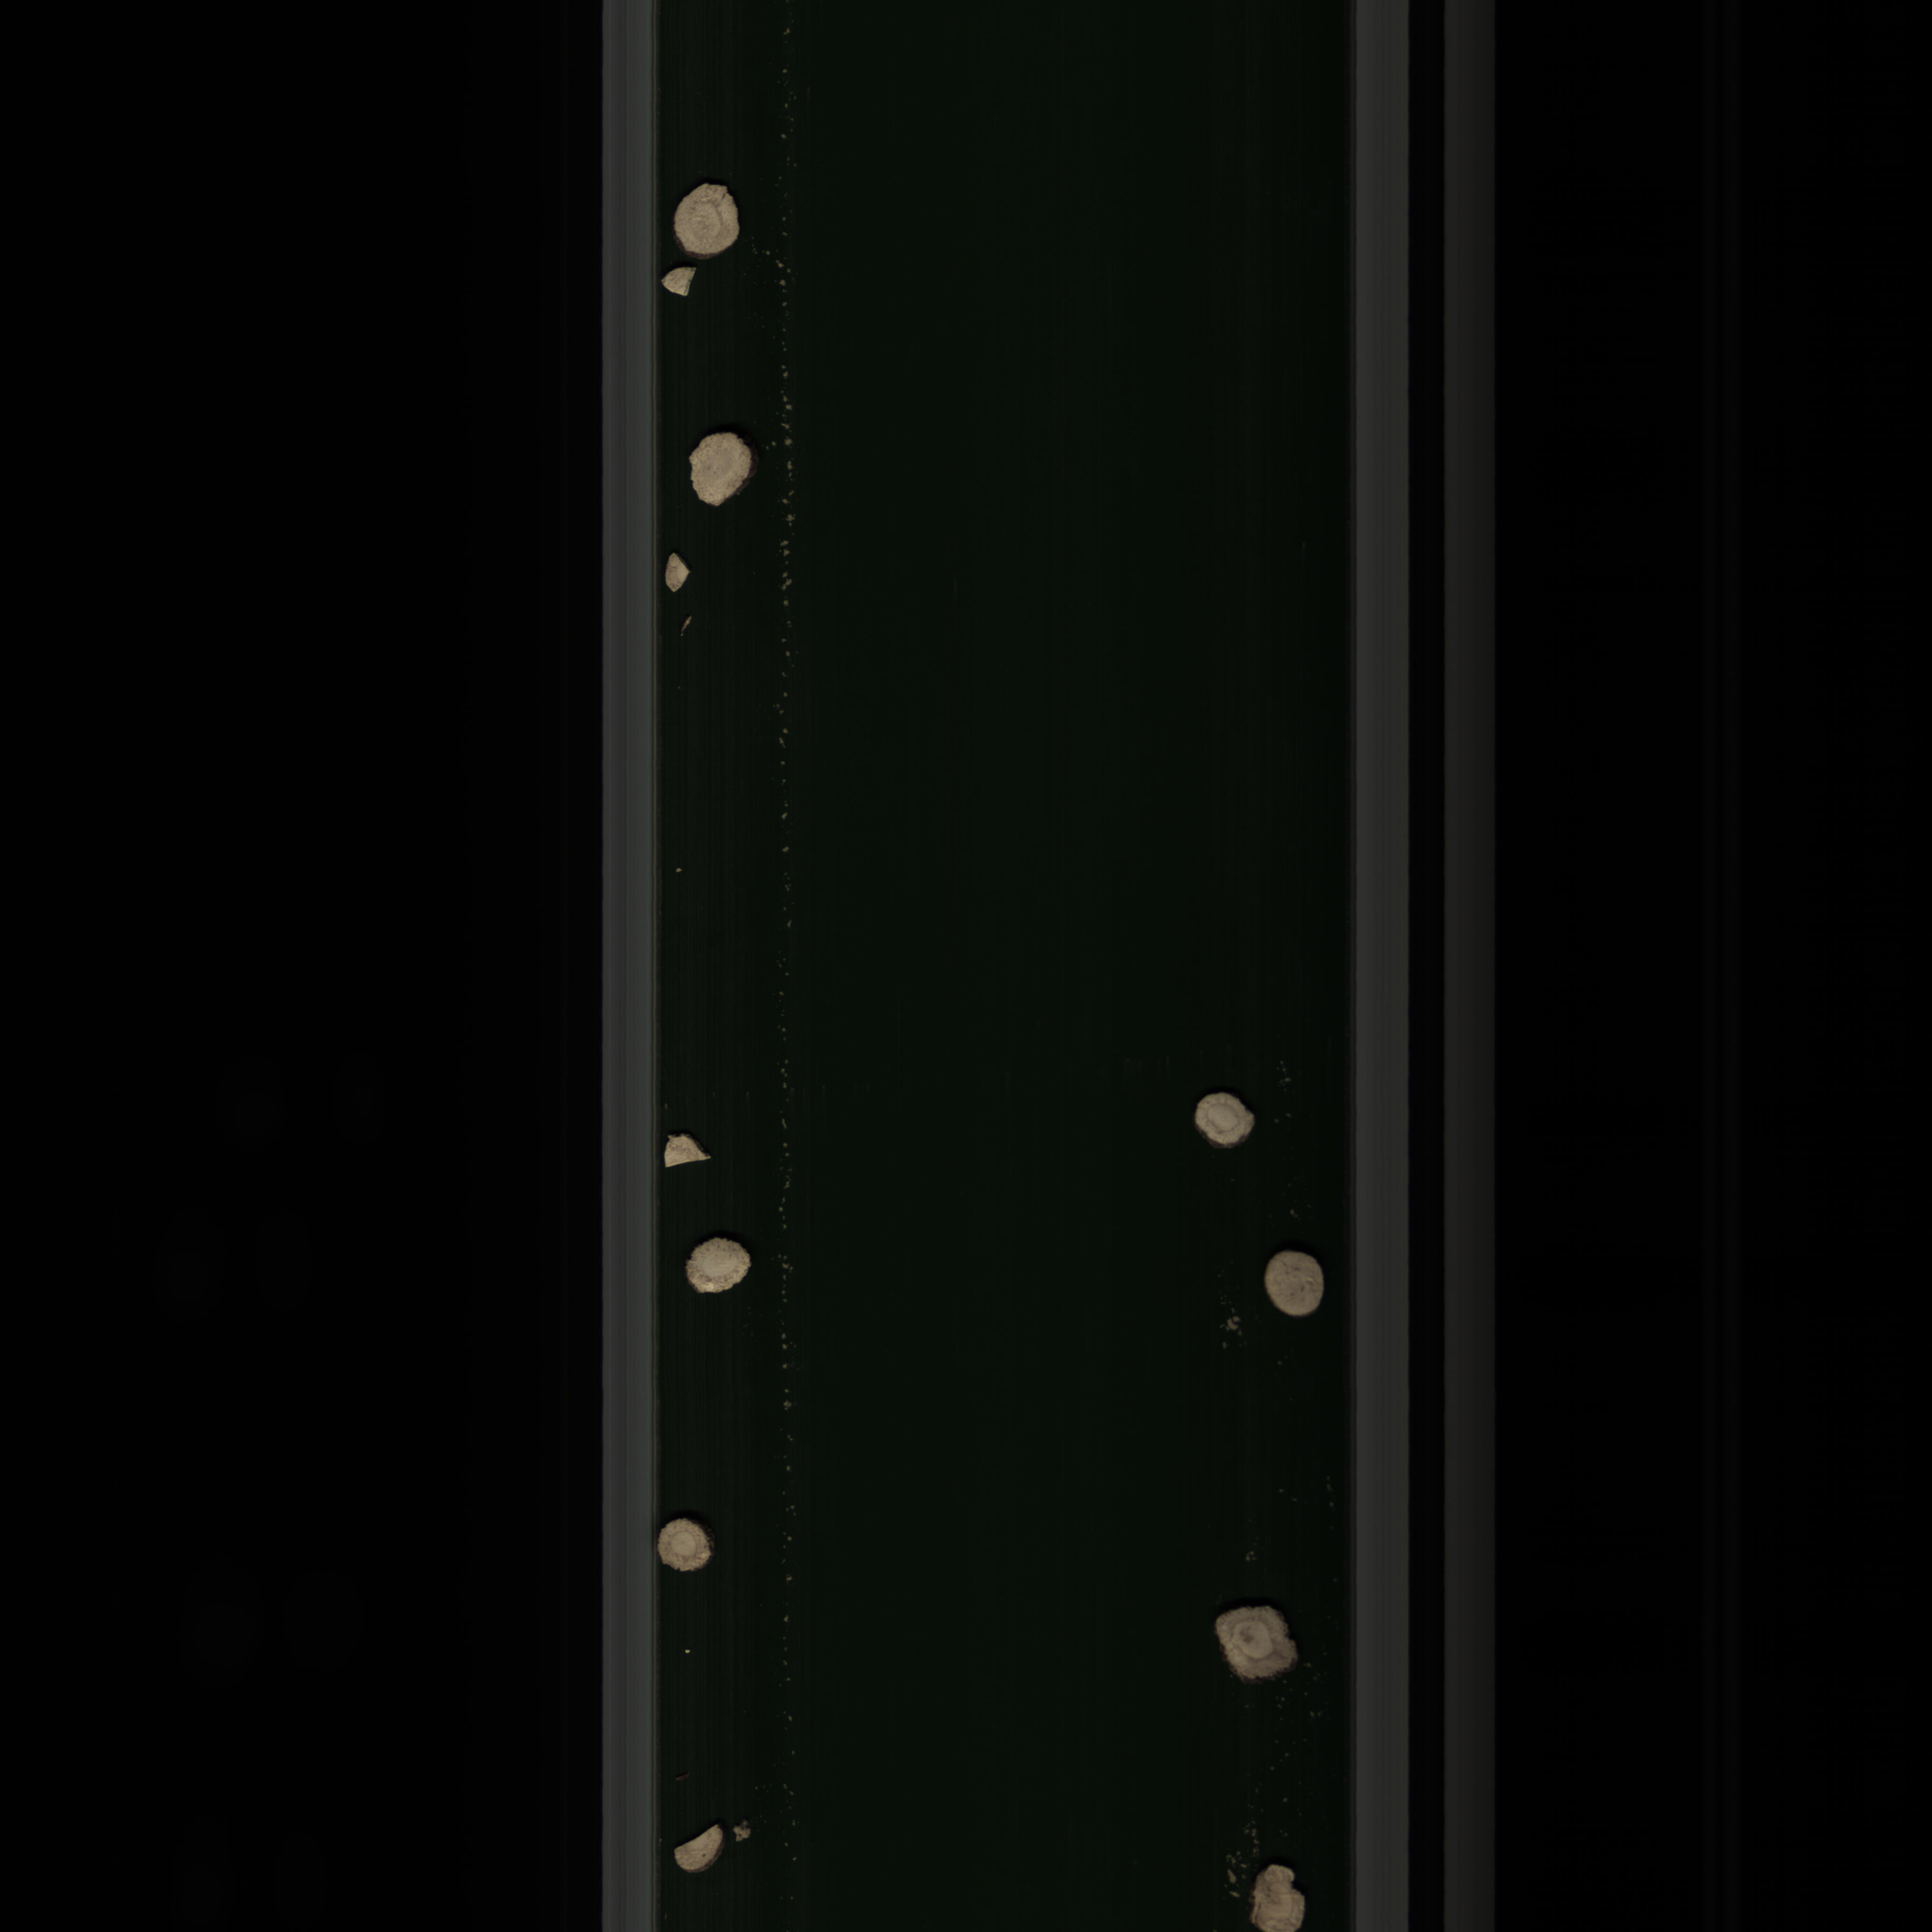debris: (667, 1821, 725, 1888), (658, 1127, 722, 1177), (660, 258, 711, 308), (662, 547, 697, 602)
distortion: (1198, 1598, 1311, 1691), (1238, 1858, 1315, 1932)
